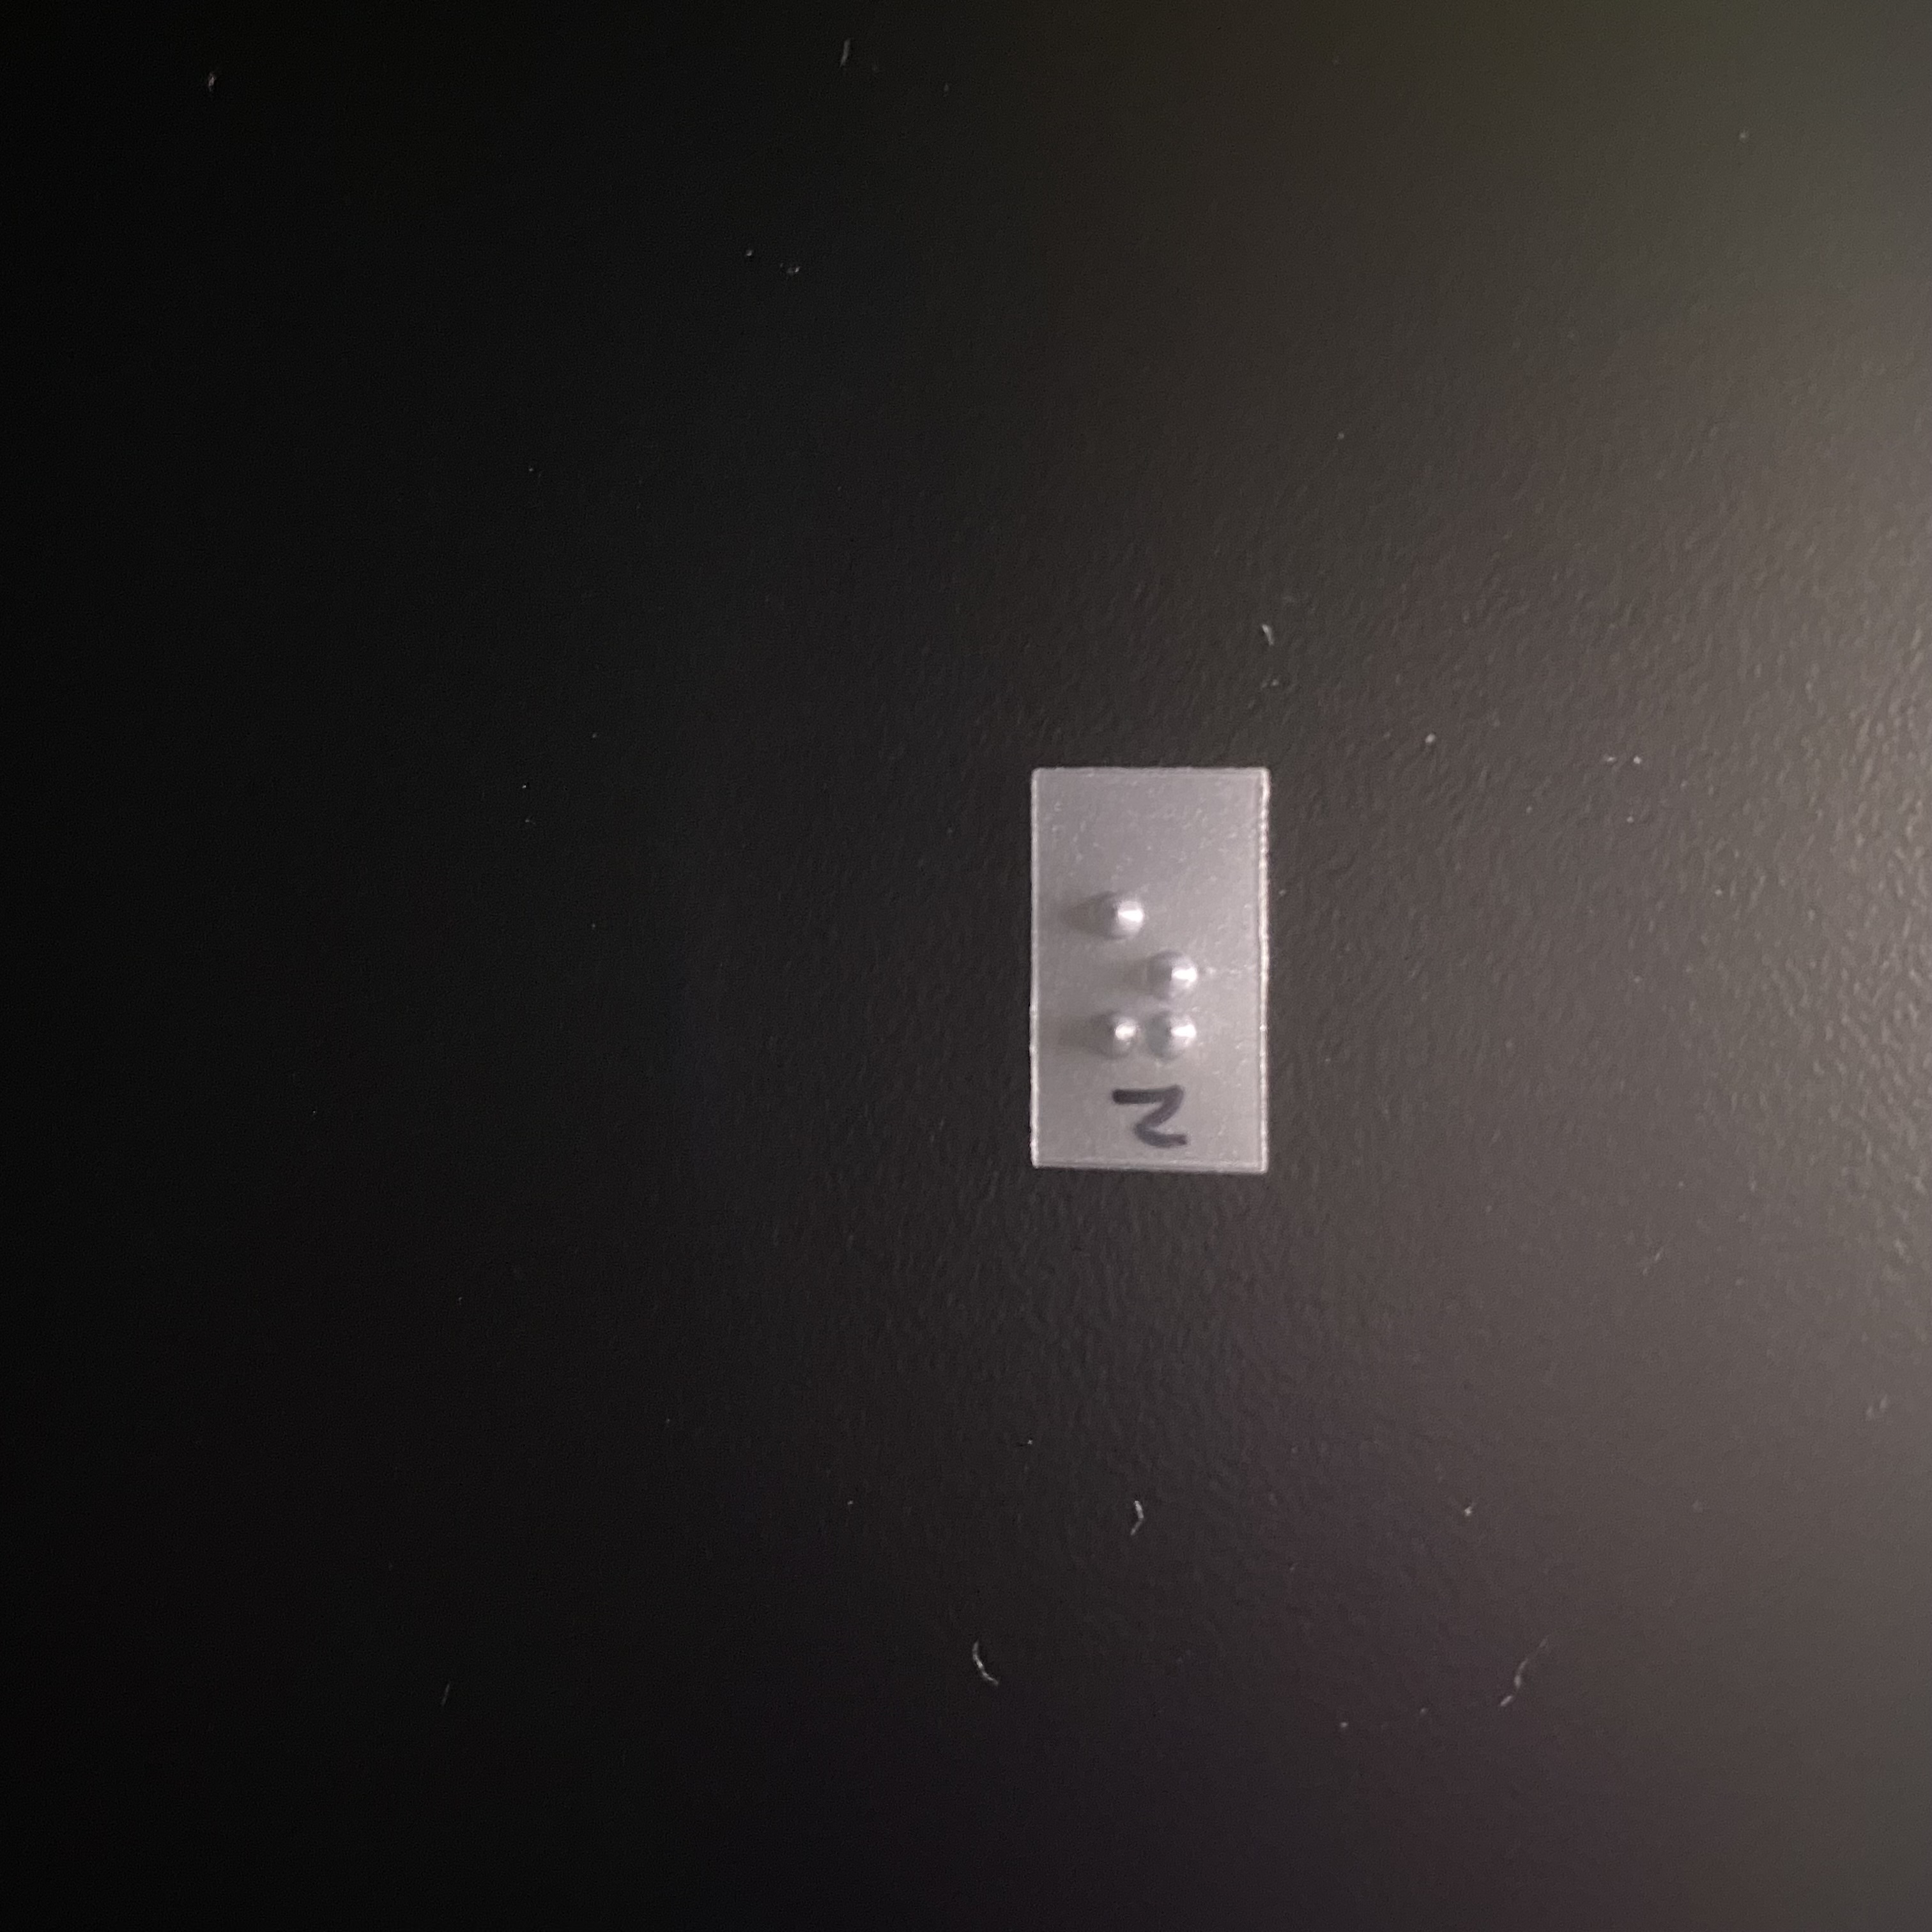z: (1067, 877, 1207, 1071)
